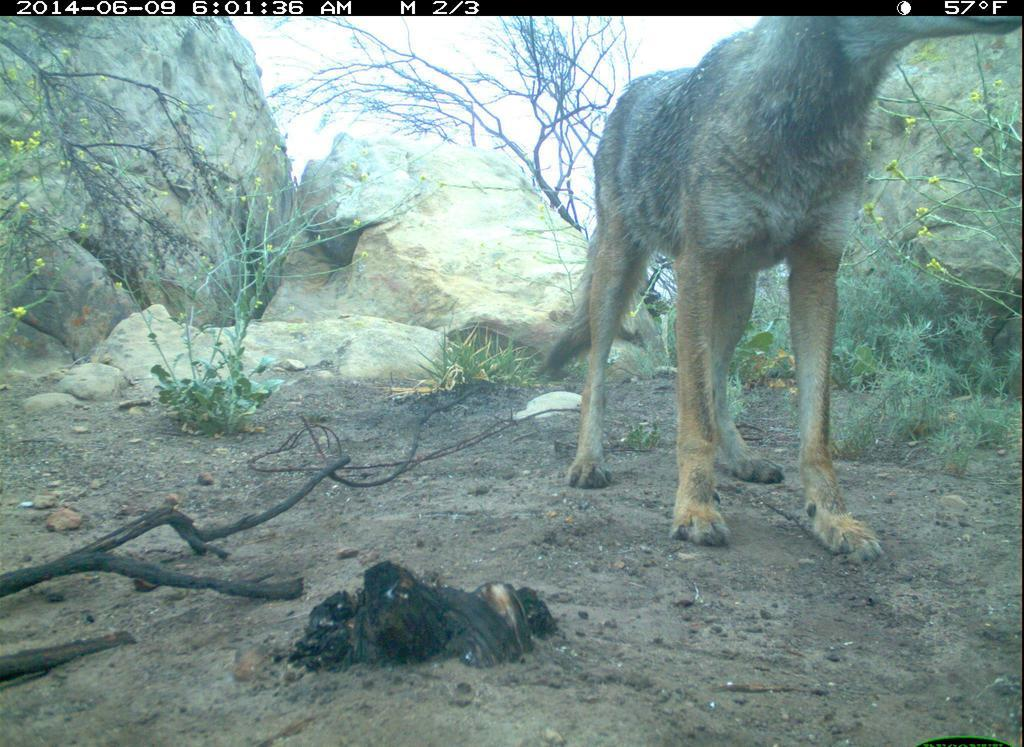coyote: (520, 13, 1021, 588)
